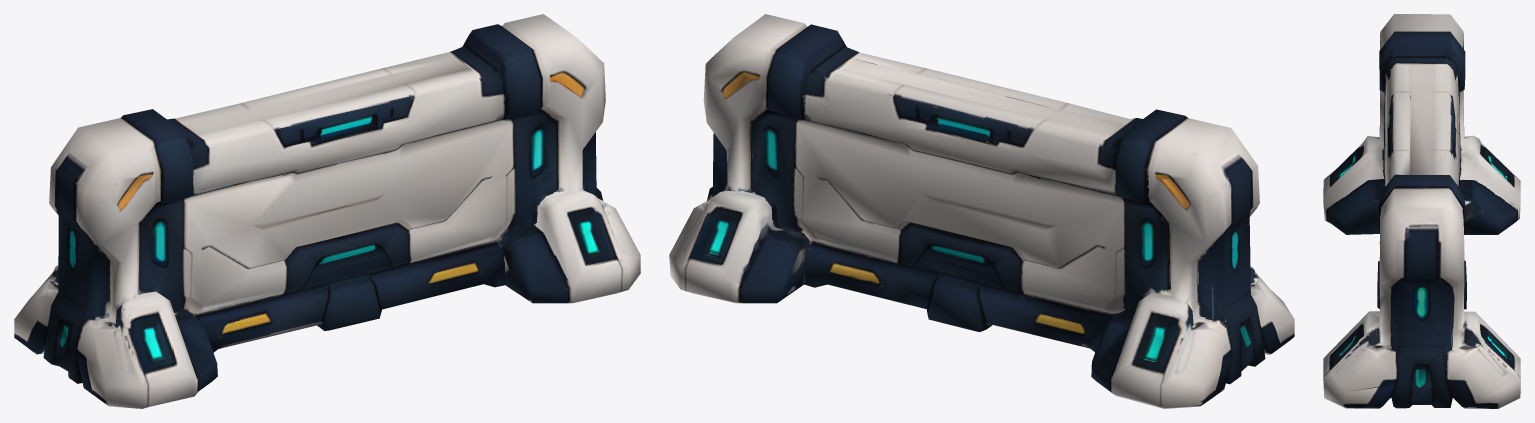
Rendered from industrial-cover-barricade_LOD1.glb.
3 views of the same model, side by side, from view 1: azimuth 30°, elevation 25°; view 2: azimuth 150°, elevation 25°; view 3: azimuth 270°, elevation 25° (orthographic). The views are drawn at different scales.
Visible parts, largest first — view 1: industrial-cover-barricade_LOD1; view 2: industrial-cover-barricade_LOD1; view 3: industrial-cover-barricade_LOD1.
Boxes of the visible parts, bbox=[...] form: industrial-cover-barricade_LOD1: bbox=[14, 14, 640, 408]; industrial-cover-barricade_LOD1: bbox=[669, 14, 1294, 408]; industrial-cover-barricade_LOD1: bbox=[1323, 14, 1520, 408].
Bounding box in the file's own units: 2.45 × 0.9964 × 0.9276.
Materials: 1 (1 with a texture image).
